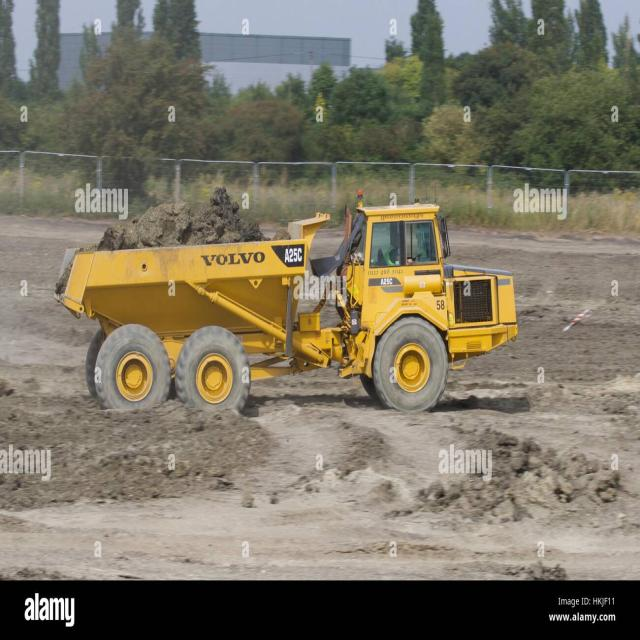dump_truck: (46, 196, 524, 426)
